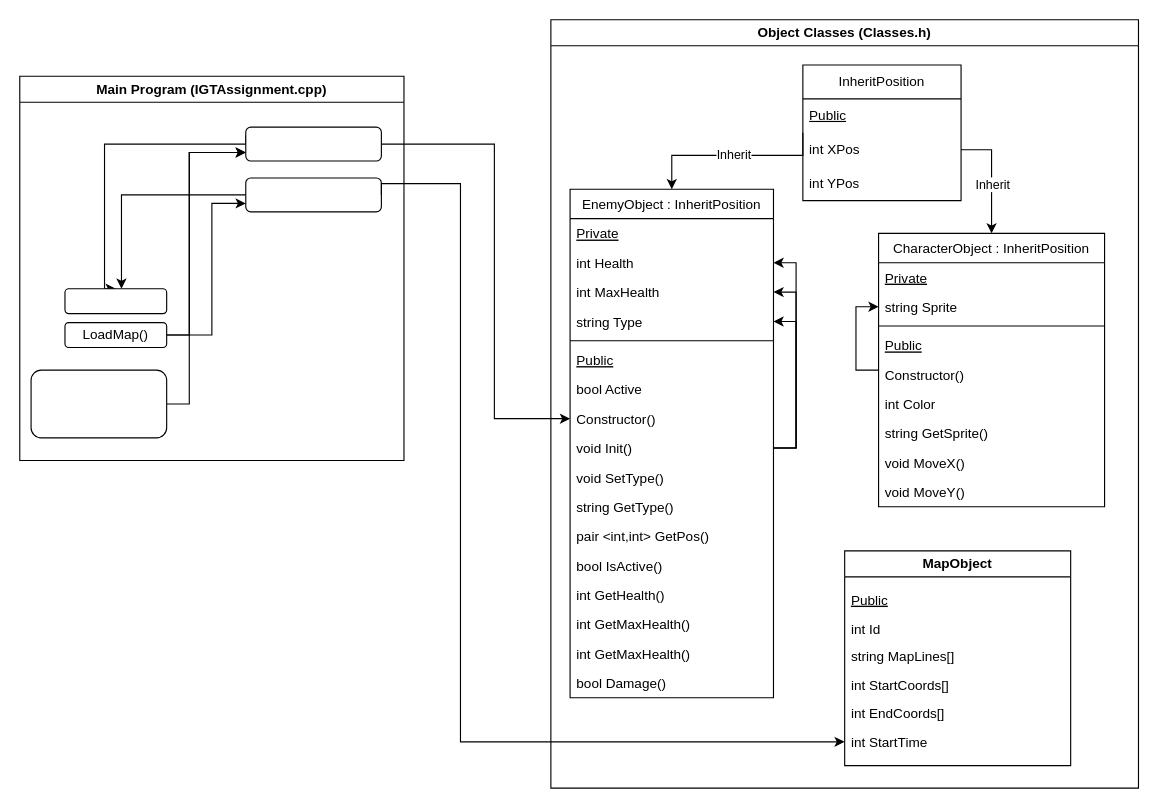
Some shapes in this 1158 by 808 pixel diagram are drawn without their labels. Here are the shapes that lost their labels. From the top down, the centre of each, then its label:
(313,143): EnemyObject pool
(313,194): MapObject variable
(115,301): DisplayMap()
(98,403): GetEnemyByPos() CheckForEnemy() RequestDamage()
